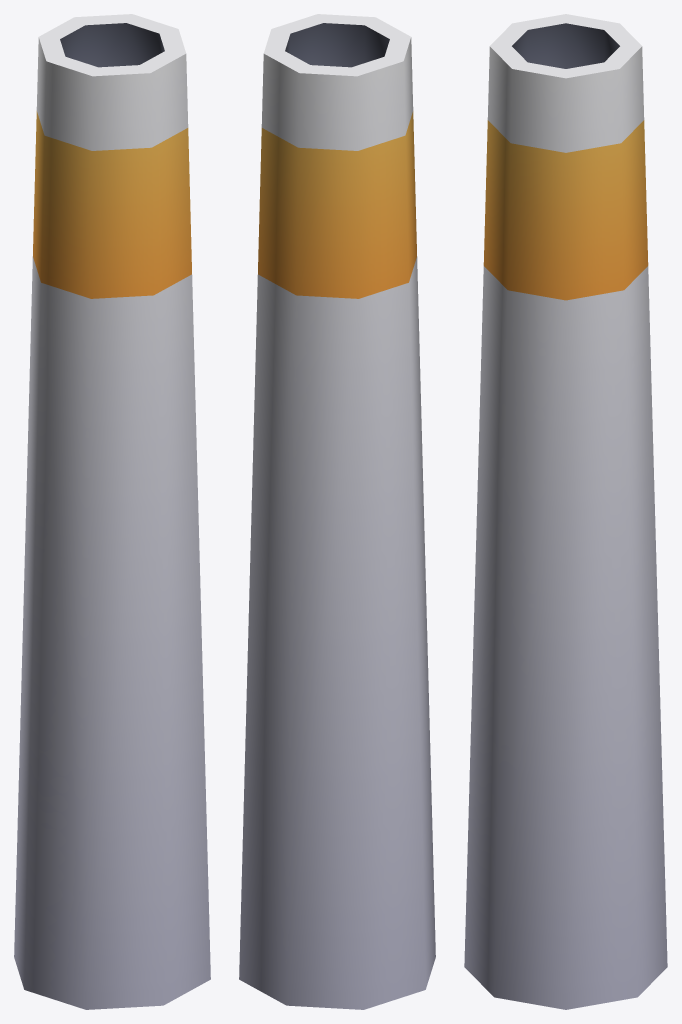
Rendered from chimney-basic.fbx.
3 views of the same model, side by side, from view 1: azimuth 30°, elevation 25°; view 2: azimuth 150°, elevation 25°; view 3: azimuth 270°, elevation 25° (orthographic).
Visible parts, largest first — view 1: chimney-basic; view 2: chimney-basic; view 3: chimney-basic.
Boxes of the visible parts, x1,y1,x2,y2 form: chimney-basic: (14,14,210,1009); chimney-basic: (239,14,435,1009); chimney-basic: (464,14,667,1009).
Size of the model in its own units: 20 by 100 by 20.
1 material, 1 textured.
